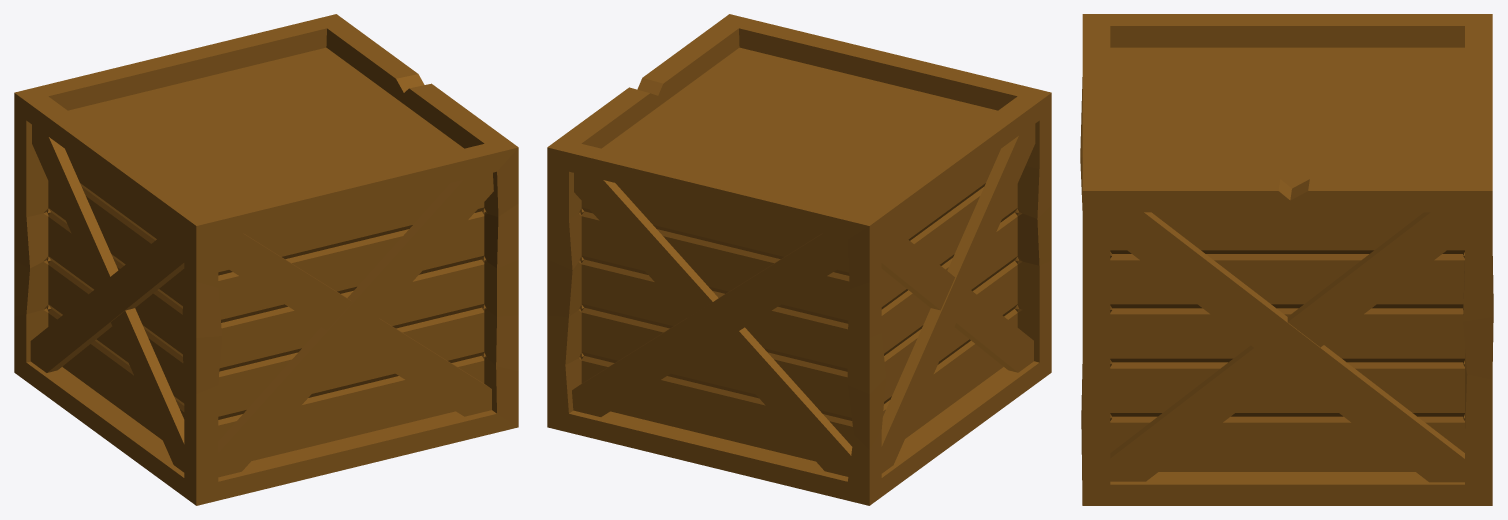
The model's file is Kiste.fbx.
3 views of the same model, side by side, from view 1: azimuth 30°, elevation 25°; view 2: azimuth 150°, elevation 25°; view 3: azimuth 270°, elevation 25° (orthographic). The views are drawn at different scales.
Parts seen in each view (by area): view 1: Cube; view 2: Cube; view 3: Cube.
Boxes of the visible parts, <box> form: Cube: <box>14,14,518,505</box>; Cube: <box>547,14,1051,505</box>; Cube: <box>1080,14,1493,505</box>.
Bounding box in the file's own units: 241 × 200 × 238.
